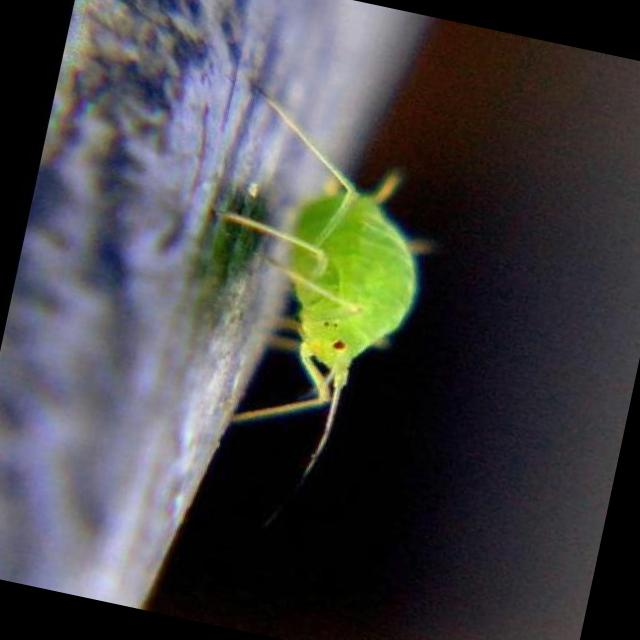aphid: (158, 58, 482, 496)
